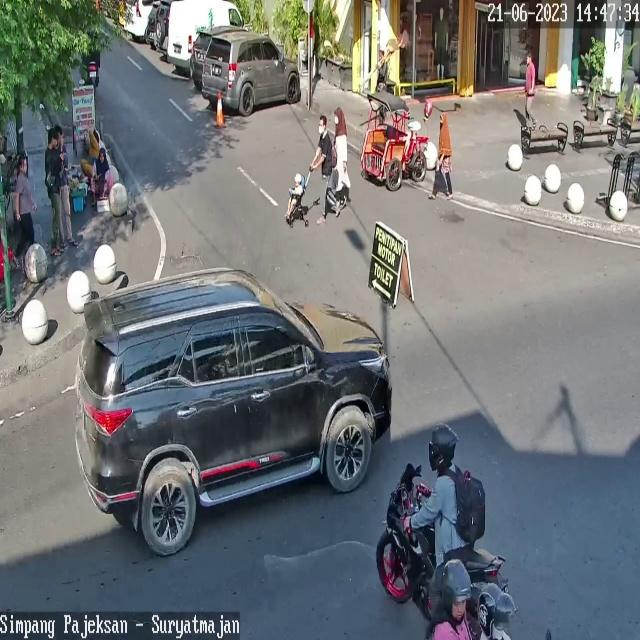bus: (376, 464, 511, 638), (85, 59, 100, 90)
motorcycle: (75, 268, 392, 556), (202, 31, 300, 116), (166, 0, 244, 67), (191, 28, 213, 82), (123, 0, 152, 36)
